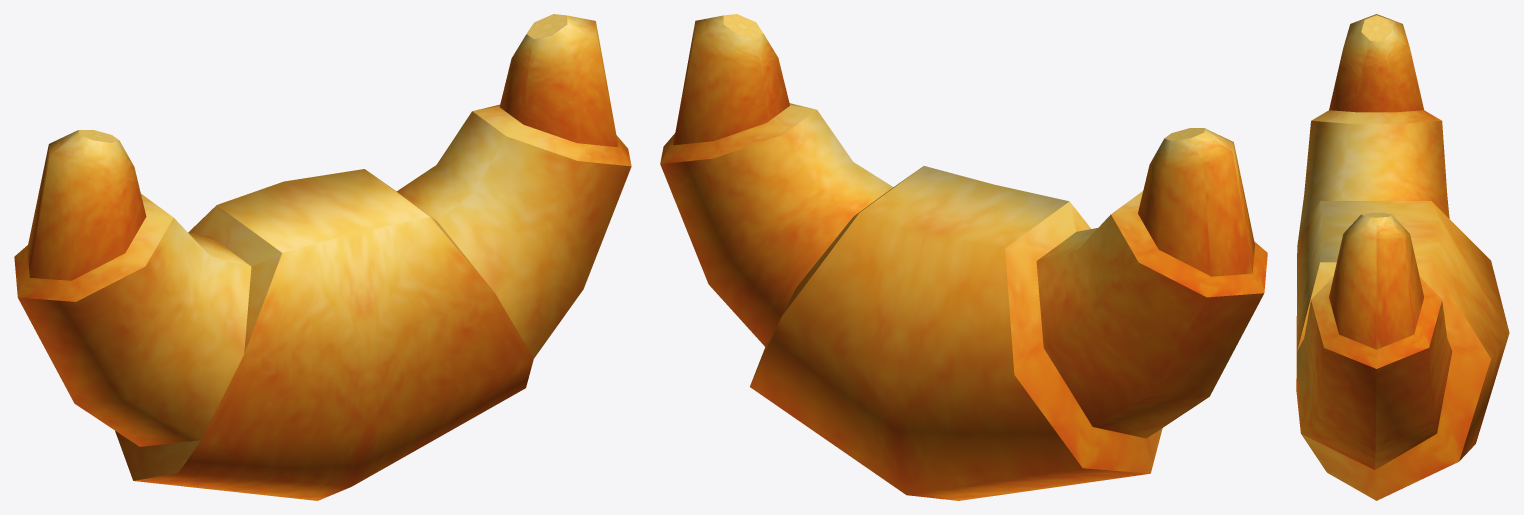
File: Croissant.fbx
3 renders of one model, left to right at view 1: azimuth 30°, elevation 25°; view 2: azimuth 150°, elevation 25°; view 3: azimuth 270°, elevation 25°, orthographic. The views are drawn at different scales.
Visible parts, largest first — view 1: Croissant; view 2: Croissant; view 3: Croissant.
Boxes of the visible parts, bbox=[...] form: Croissant: bbox=[14, 14, 631, 500]; Croissant: bbox=[660, 14, 1267, 500]; Croissant: bbox=[1296, 14, 1509, 500].
Bounding box in the file's own units: 195 × 131 × 69.37.
